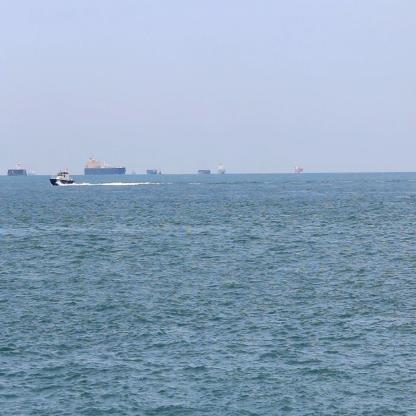Container Ship: (84, 152, 126, 174), (7, 160, 29, 176), (294, 161, 304, 174), (198, 167, 212, 174), (218, 162, 226, 174), (28, 169, 39, 177), (131, 166, 139, 176), (146, 168, 159, 174), (158, 167, 163, 174)
